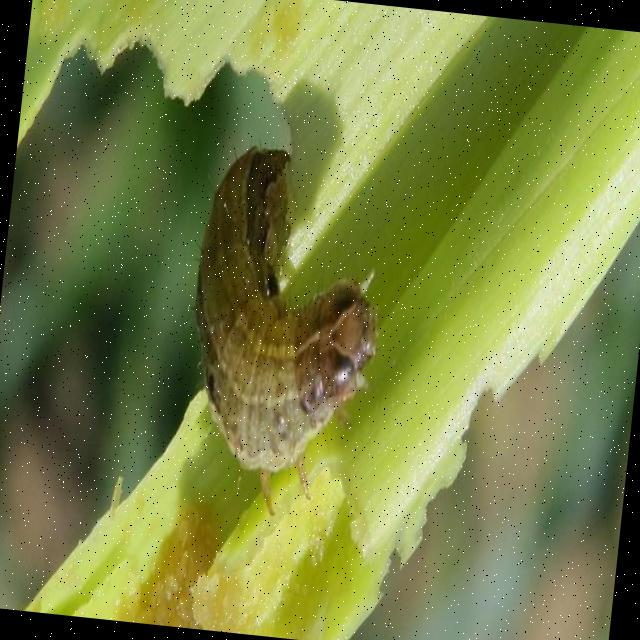worm: (169, 140, 399, 528)
